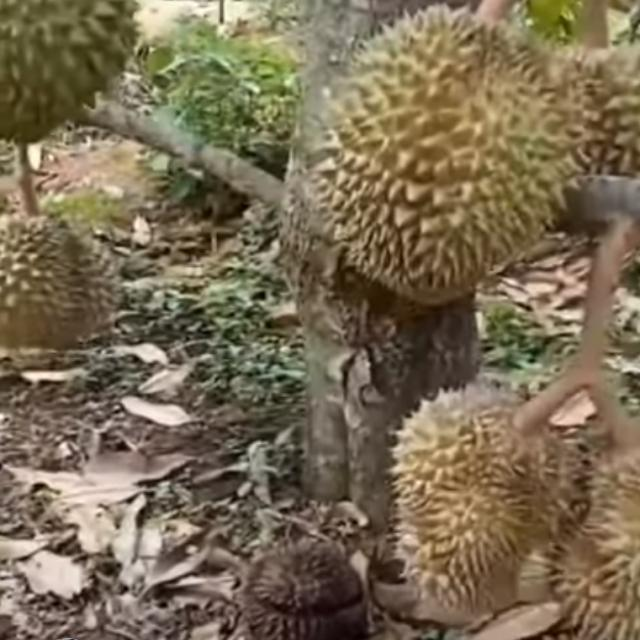defective: (239, 549, 370, 640)
mature: (319, 6, 584, 306), (394, 374, 564, 612), (0, 212, 116, 354)
